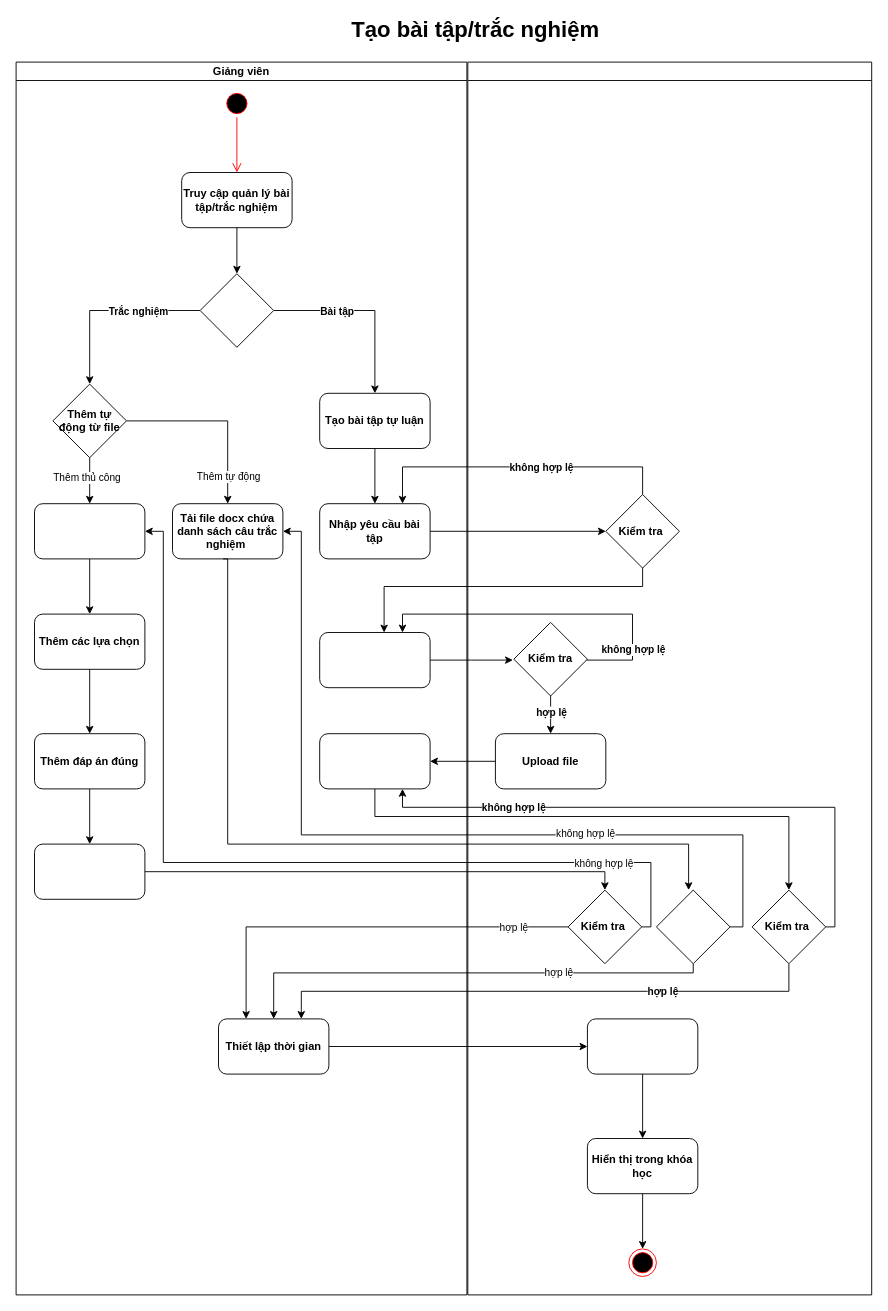
Some shapes in this 888 by 1311 pixel diagram are drawn without their labels. Here are the shapes that lost their labels. From the top down, the box of each, then its label:
(199, 273, 274, 347): Chọn loại bài tập
(34, 503, 145, 559): Tạo câu hỏi trắc nghiệm
(319, 632, 430, 688): Thêm tài liệu đính kèm
(467, 61, 872, 1295): Hệ Thống
(319, 733, 430, 789): Thêm hướng dẫn
(34, 843, 145, 899): Thêm giải thích
(656, 889, 730, 964): Kiểm tra định dạng
(586, 1018, 698, 1074): Lưu bài tập/quiz vào CSDL
